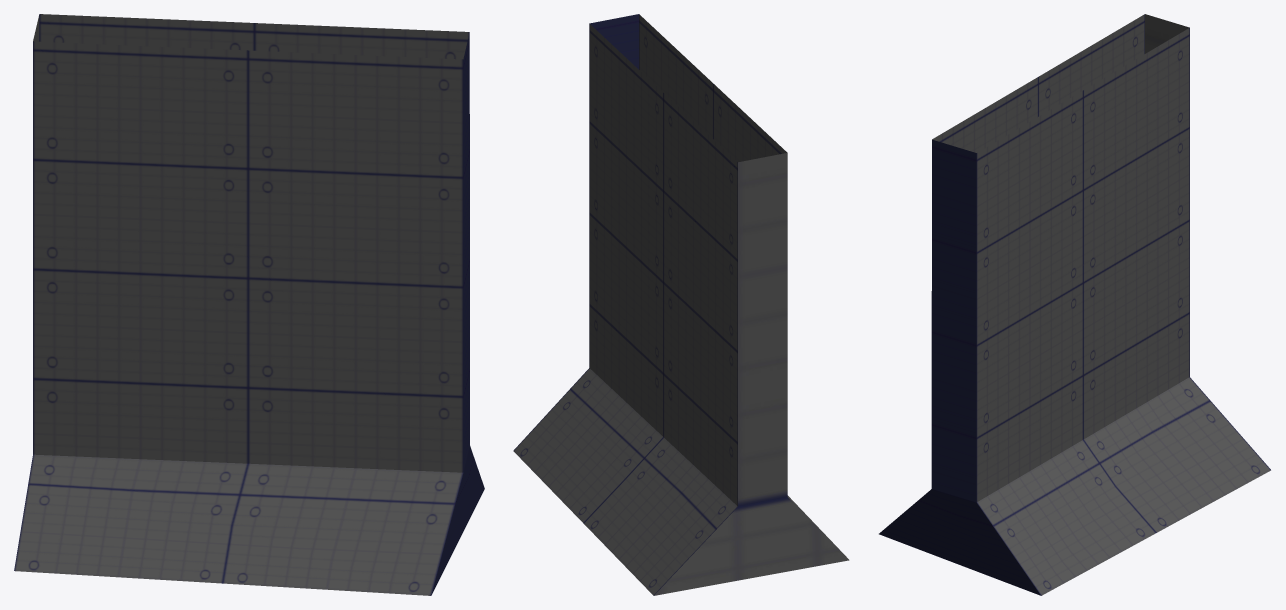
File: door1.fbx
3 views of the same model, side by side, from view 1: azimuth 30°, elevation 25°; view 2: azimuth 150°, elevation 25°; view 3: azimuth 270°, elevation 25° (orthographic). The views are drawn at different scales.
Visible parts, largest first — view 1: door1; view 2: door1; view 3: door1.
Boxes of the visible parts, x1=… form: door1: x1=14, y1=14, x2=484, y2=595; door1: x1=513, y1=14, x2=849, y2=595; door1: x1=879, y1=14, x2=1270, y2=595.
Size of the model in its own units: 233 by 253 by 214.
1 material, 1 textured.
